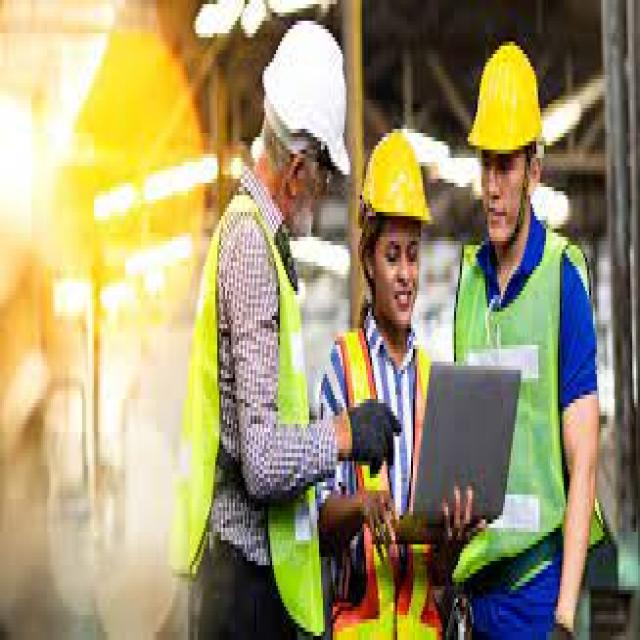Reflective-Jacket: (172, 191, 325, 628), (450, 224, 593, 586), (331, 324, 444, 636)
Safety-Helmet: (256, 17, 354, 178), (464, 33, 550, 162), (356, 120, 438, 237)
